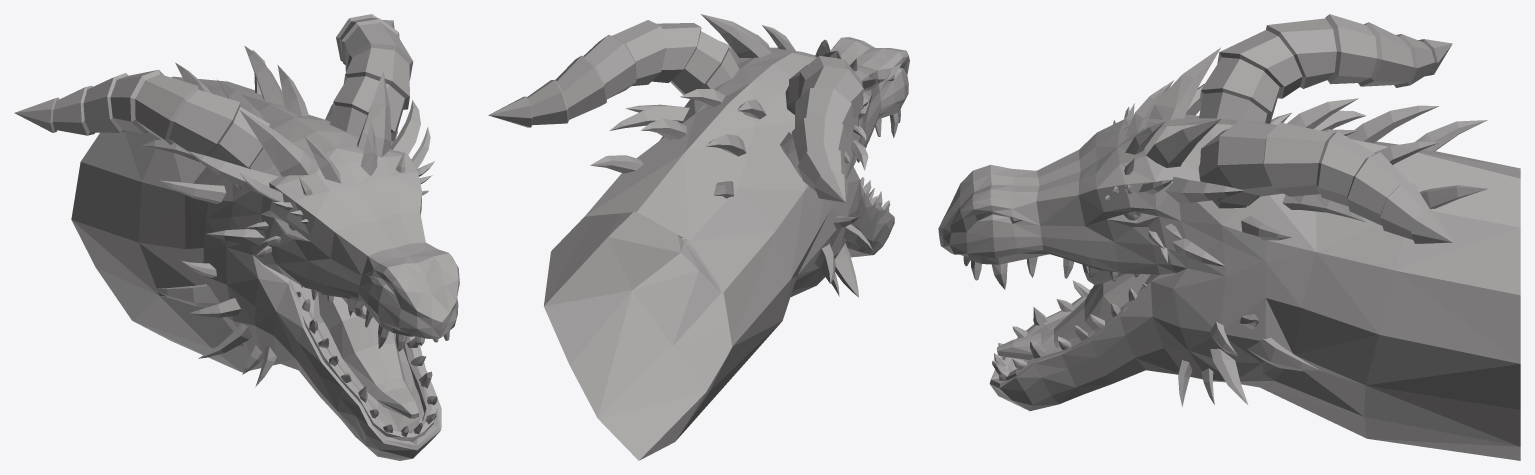
Rendered from DragonHeadTrapMetal.fbx.
The picture shows the model from 3 angles, left to right: view 1: azimuth 30°, elevation 25°; view 2: azimuth 150°, elevation 25°; view 3: azimuth 270°, elevation 25°; orthographic projection. The views are drawn at different scales.
Visible parts, largest first — view 1: DragonHeadTrapMetal; view 2: DragonHeadTrapMetal; view 3: DragonHeadTrapMetal.
Part boxes in pixels (x1,y1,x2,y2): DragonHeadTrapMetal: (14, 14, 459, 460); DragonHeadTrapMetal: (488, 14, 909, 460); DragonHeadTrapMetal: (938, 14, 1520, 460).
Bounding box in the file's own units: 63.57 × 57.4 × 78.61.
